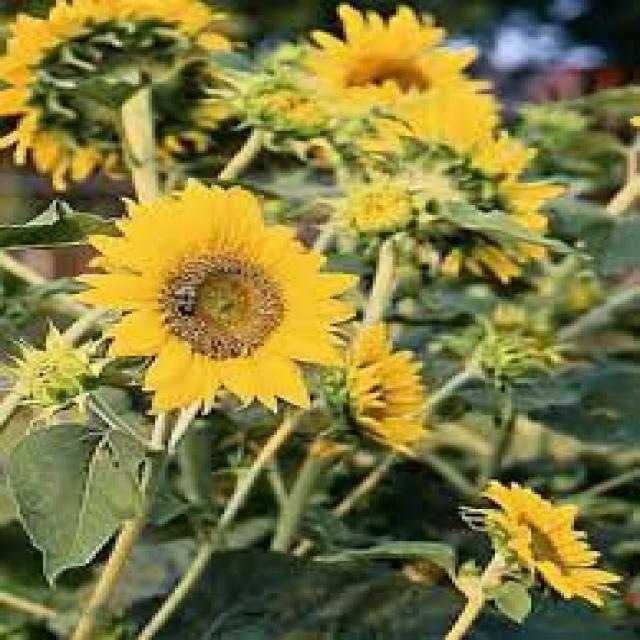sunflower: (69, 178, 360, 415), (0, 0, 237, 189), (353, 86, 564, 282), (486, 480, 619, 605), (304, 1, 479, 90), (347, 319, 427, 452), (3, 321, 99, 413)
